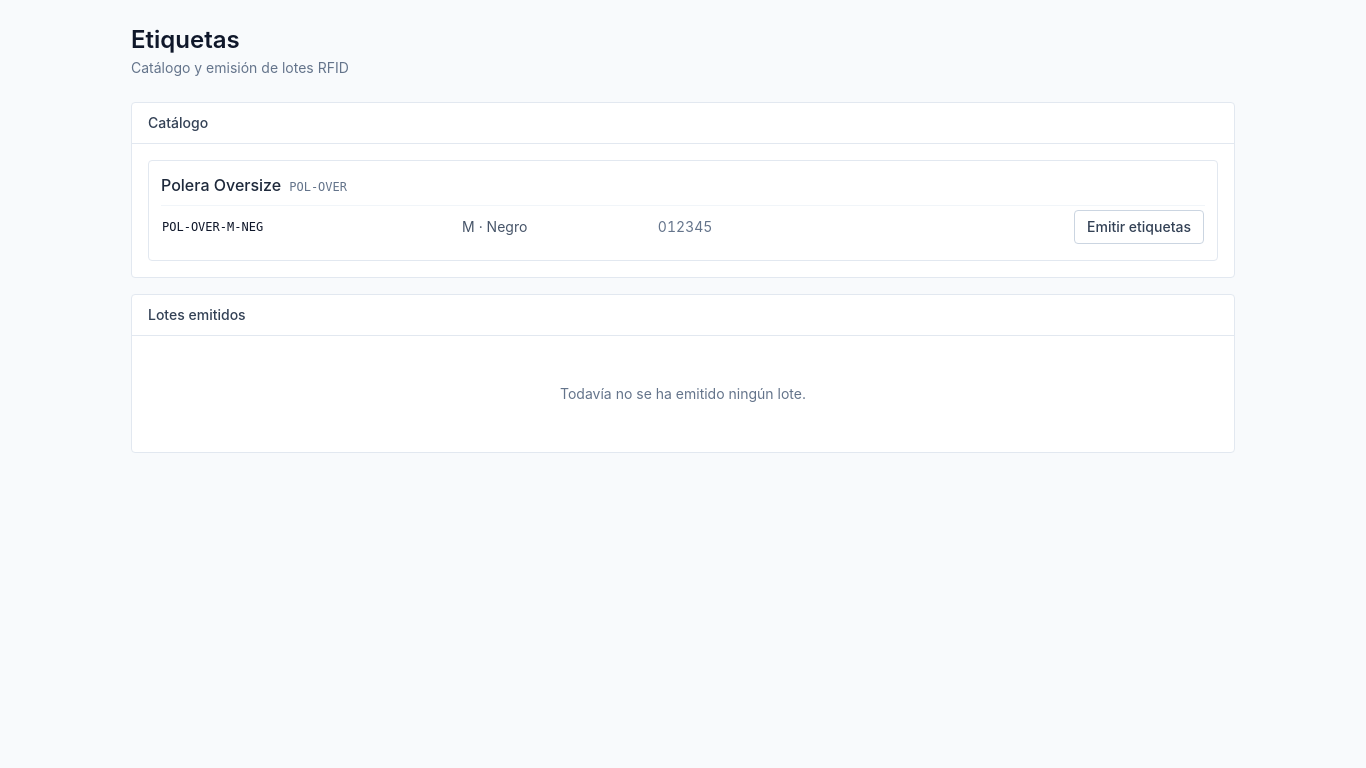
Test case: Labels › emitir avisa de que los seriales no se recuperan
Click the button "Emitir etiquetas": (1139, 227) [1074,210,1204,244]
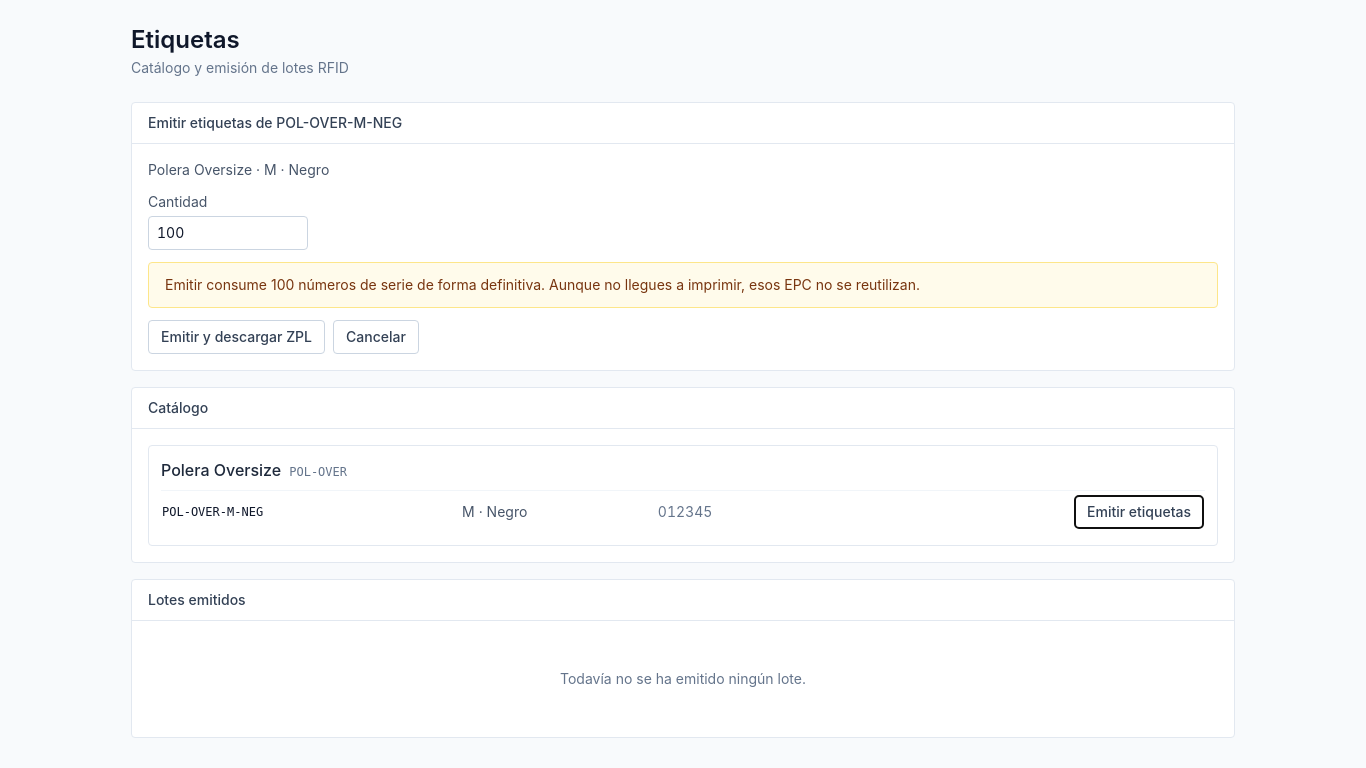
expect the text "no se reutilizan" is shown: met, box [294,276,920,293]
